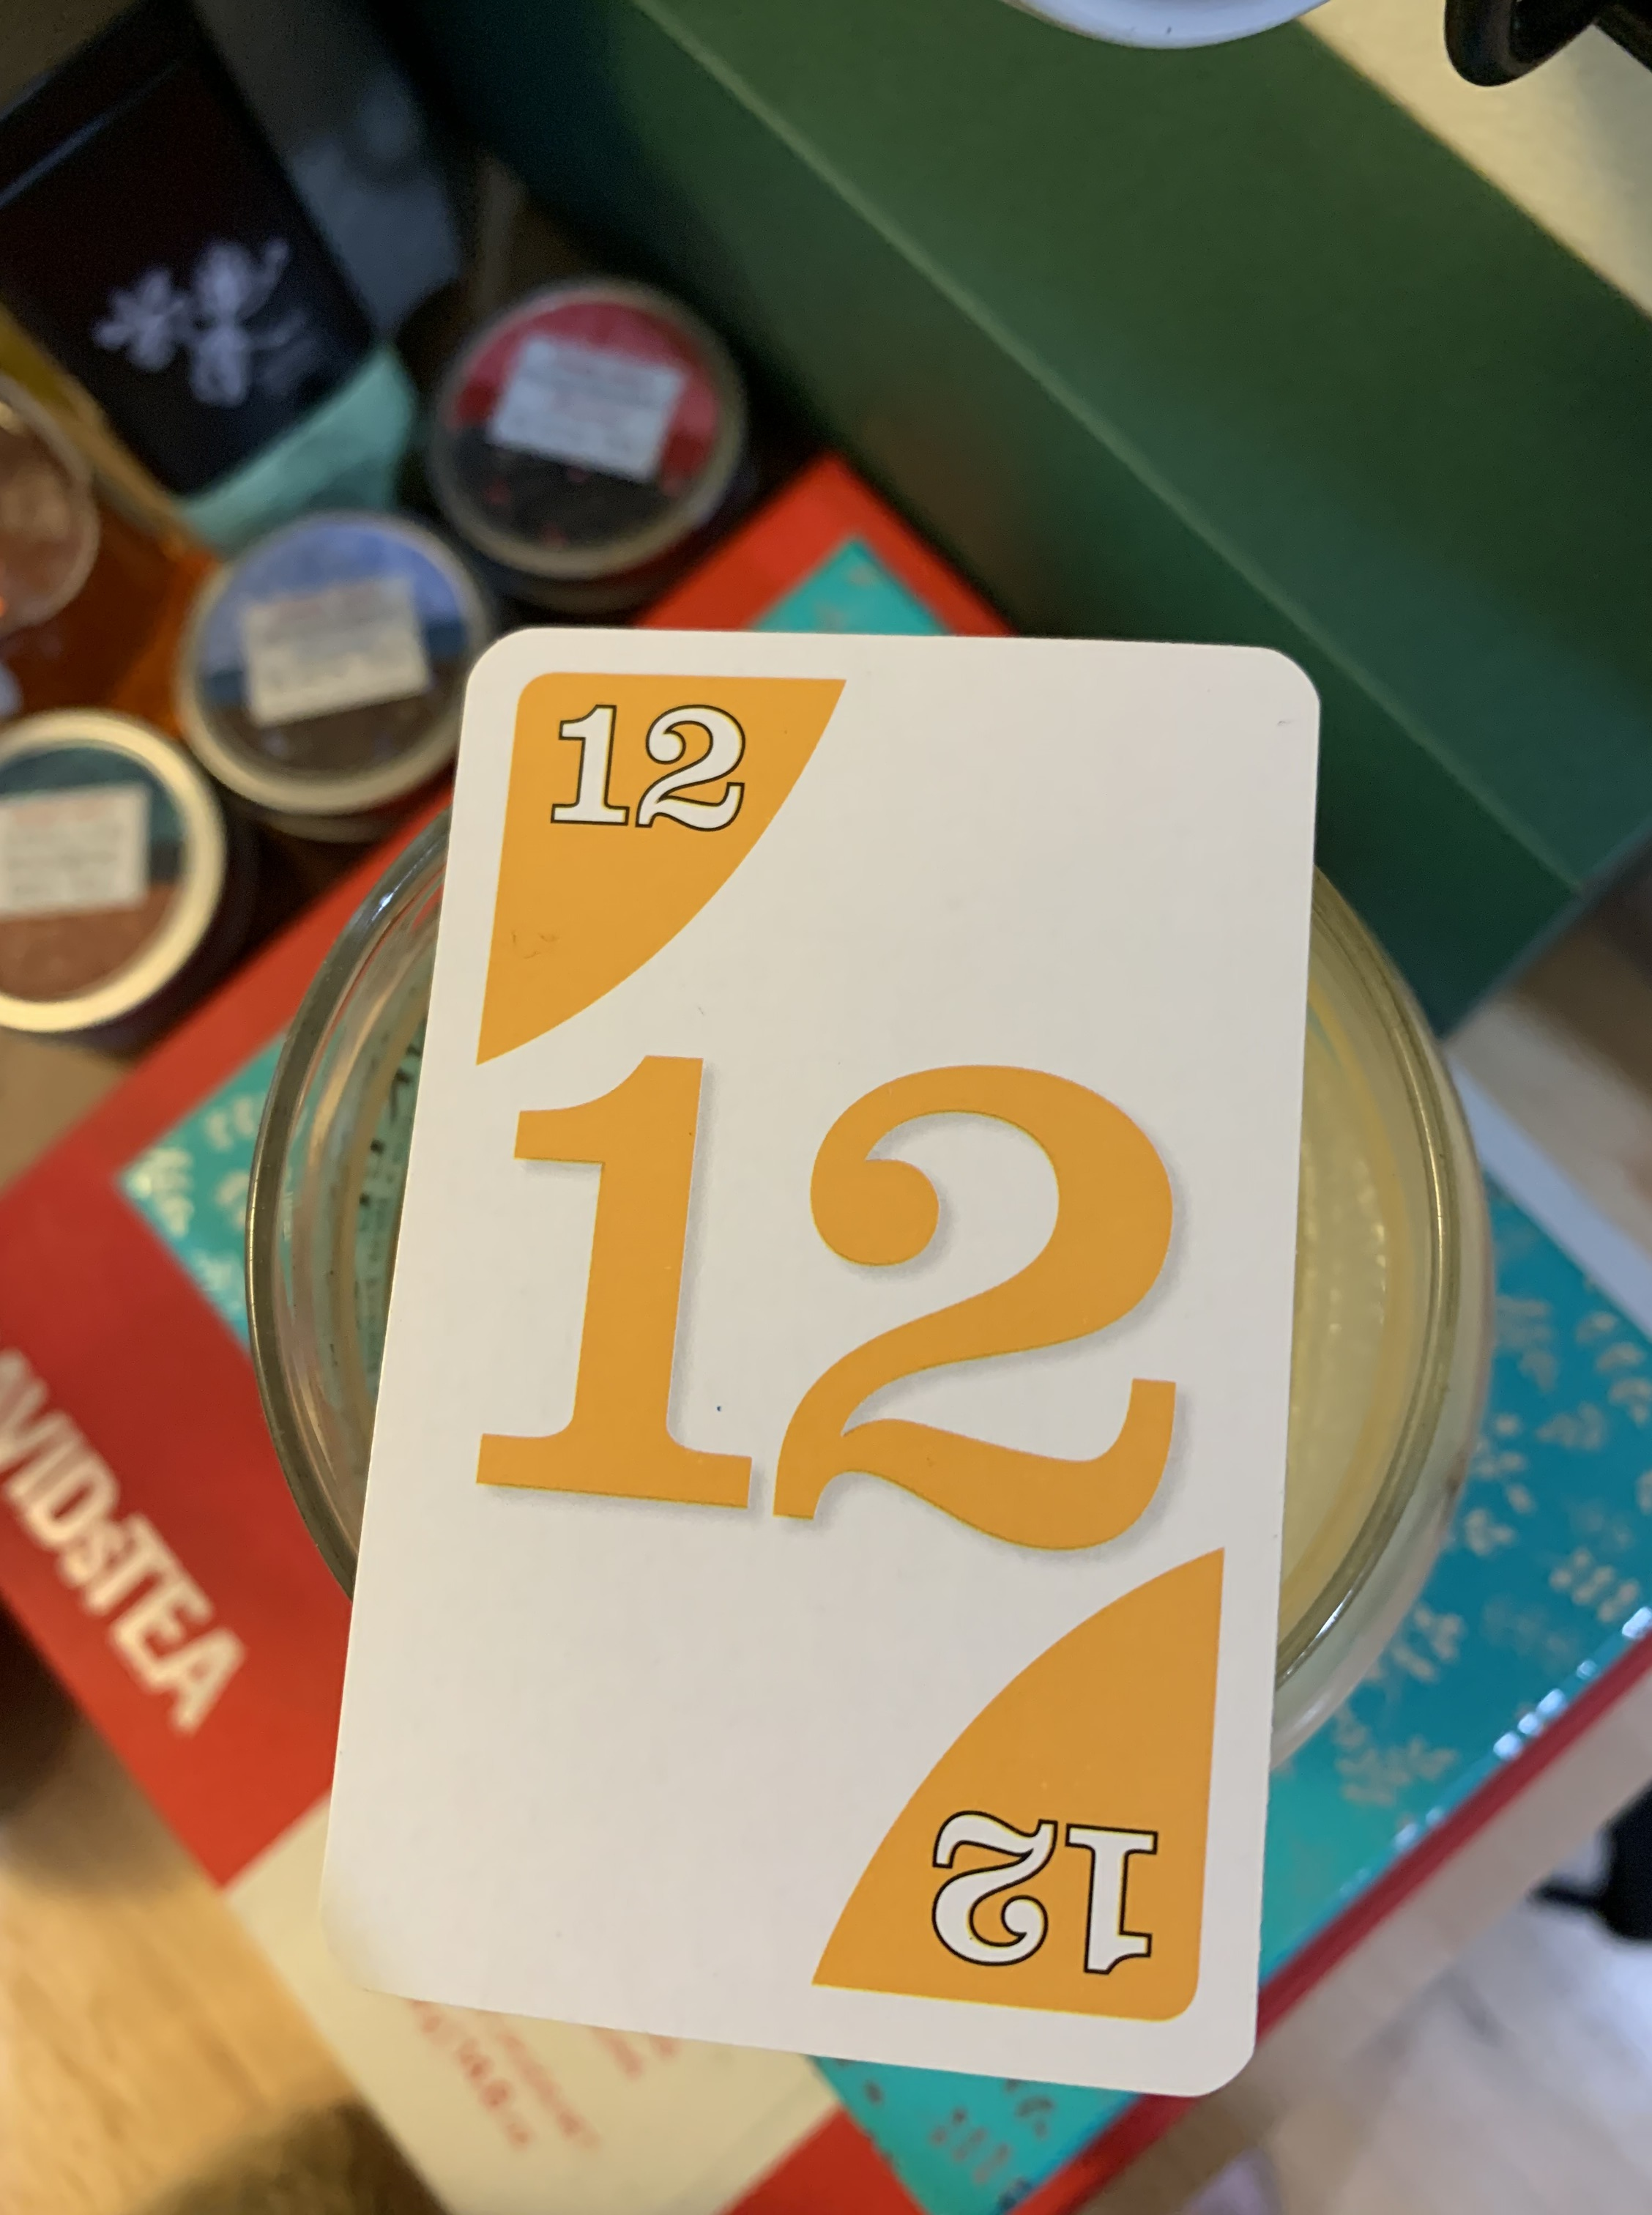twelve: (331, 606, 1348, 2126)
